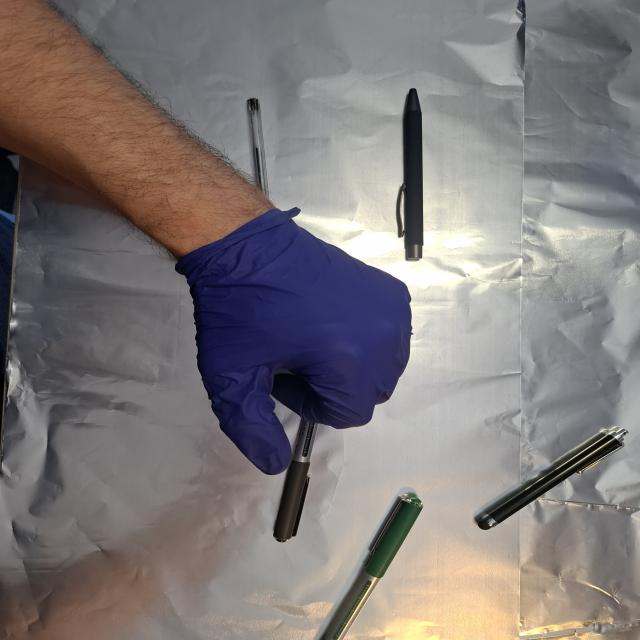glove_on: (177, 205, 416, 478)
